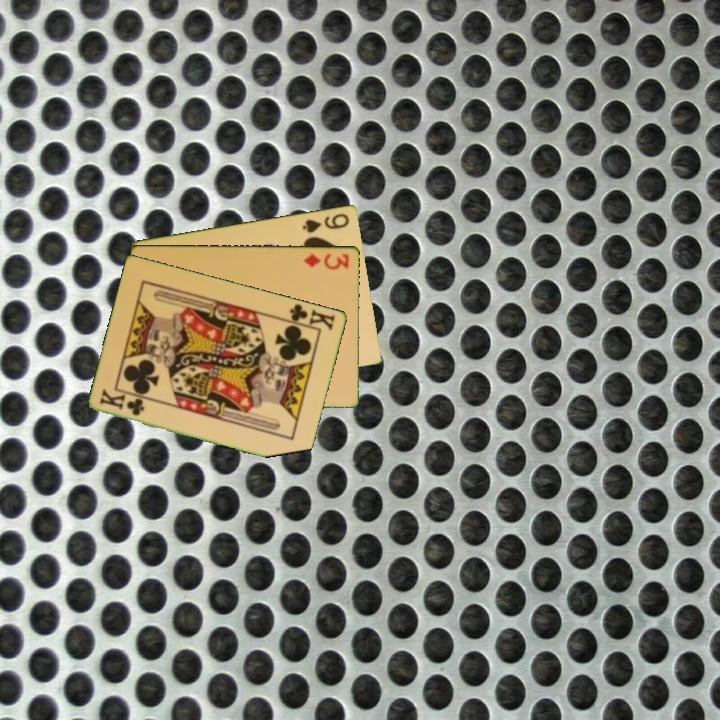3d: (301, 250, 351, 272)
9s: (299, 209, 352, 236)
Kc: (282, 300, 338, 333), (96, 387, 148, 418)
